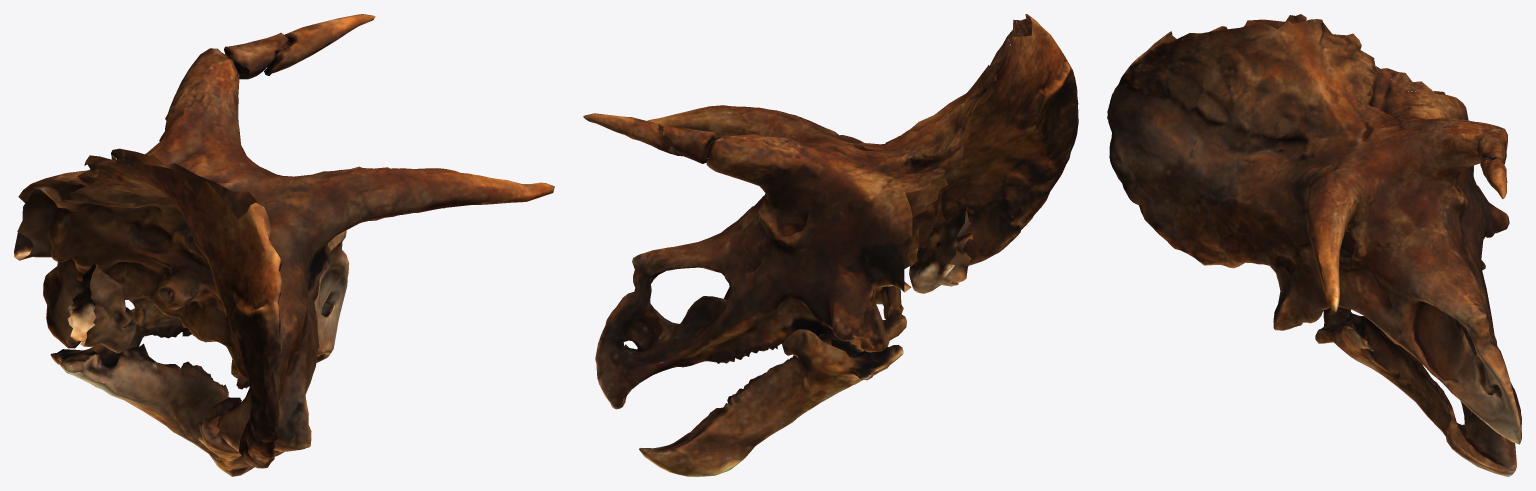
File: Triceratops_Skull.fbx
3 renders of one model, left to right at view 1: azimuth 30°, elevation 25°; view 2: azimuth 150°, elevation 25°; view 3: azimuth 270°, elevation 25°, orthographic. The views are drawn at different scales.
Parts seen in each view (by area): view 1: Triceratops_Skull; view 2: Triceratops_Skull; view 3: Triceratops_Skull.
Part boxes in pixels (x1,y1,x2,y2): Triceratops_Skull: [14, 14, 554, 476]; Triceratops_Skull: [583, 14, 1078, 476]; Triceratops_Skull: [1107, 14, 1521, 476].
Bounding box in the file's own units: 0.33 × 0.3244 × 0.3341.
1 material, 1 textured.
